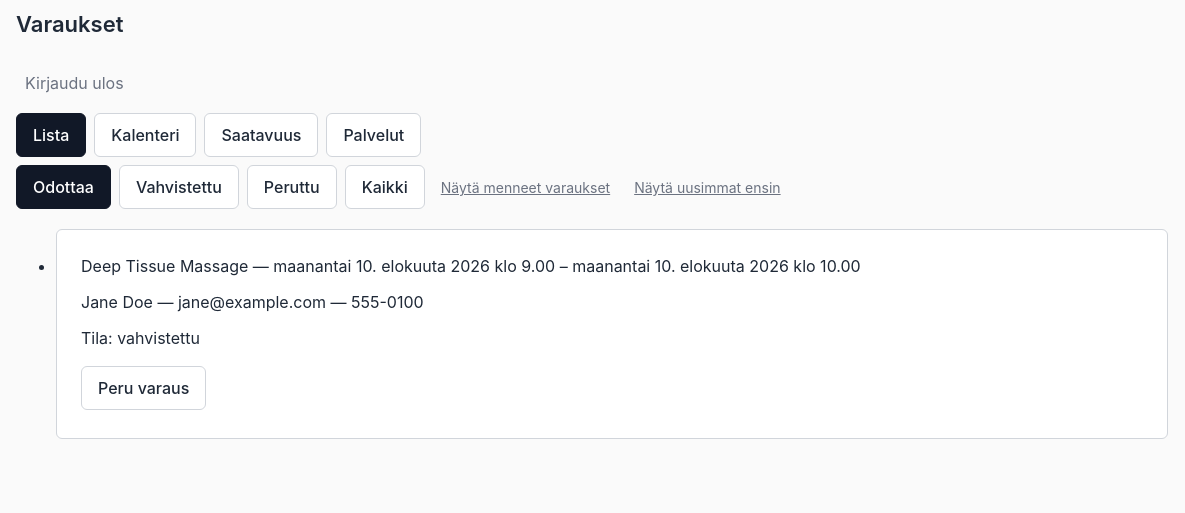
Test: AdminDashboard › backs out of the cancel flow via Never mind without sending a request
Expected: the list item with test id "booking-booking-2" is shown, [56,229,1168,439]
Click the button "Peru varaus": (144, 388) [81,366,206,410]
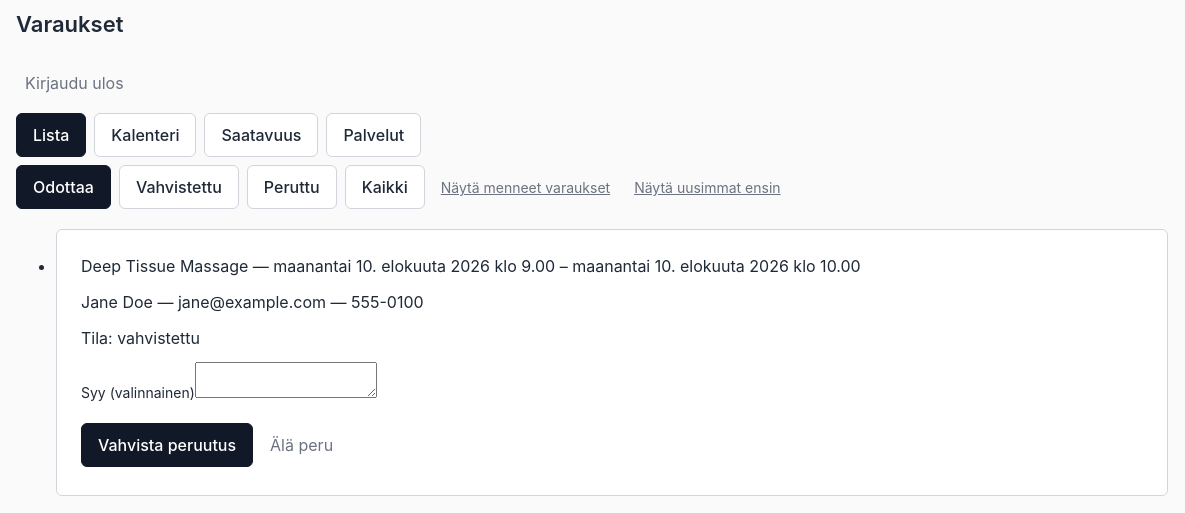
Click the button "Älä peru": (302, 445) [261,423,342,467]
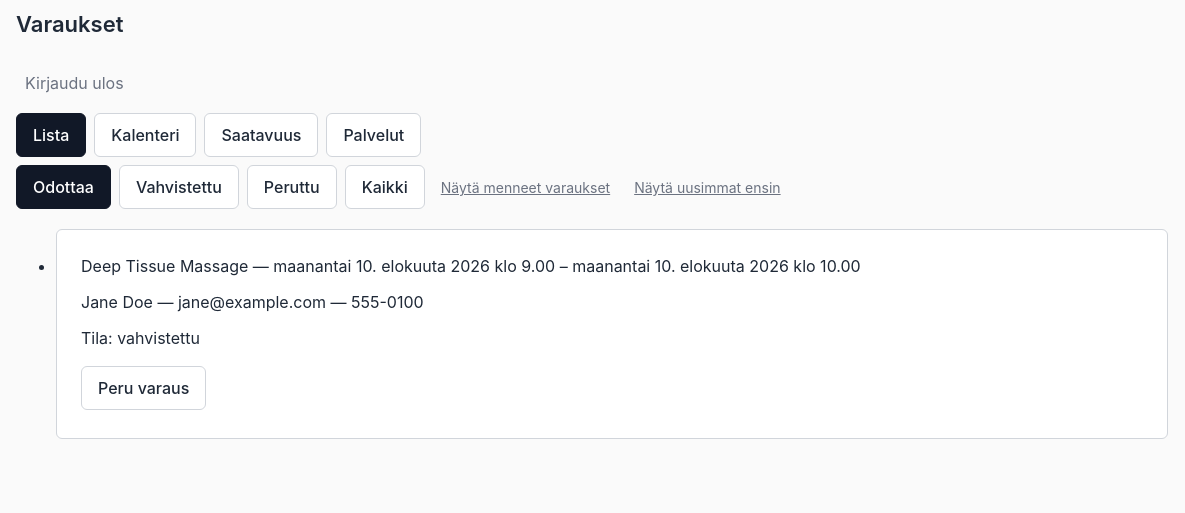
Expected: the button "Peru varaus" is shown, [81,366,206,410]
